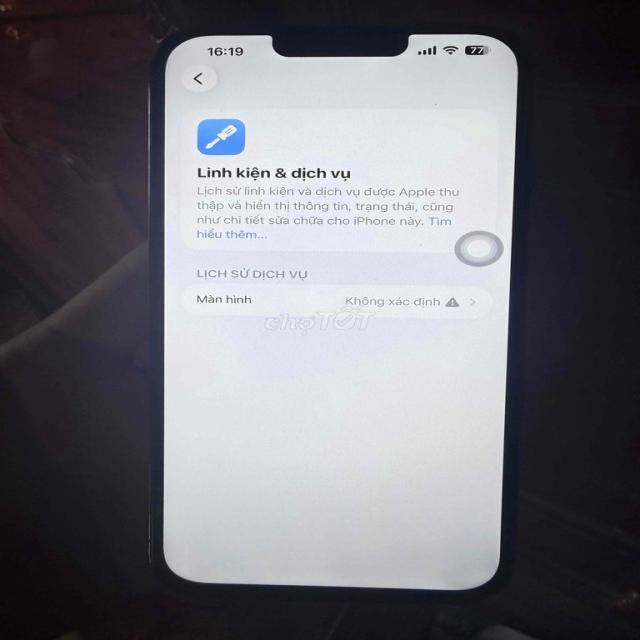gen_12_13: (133, 16, 524, 610)
